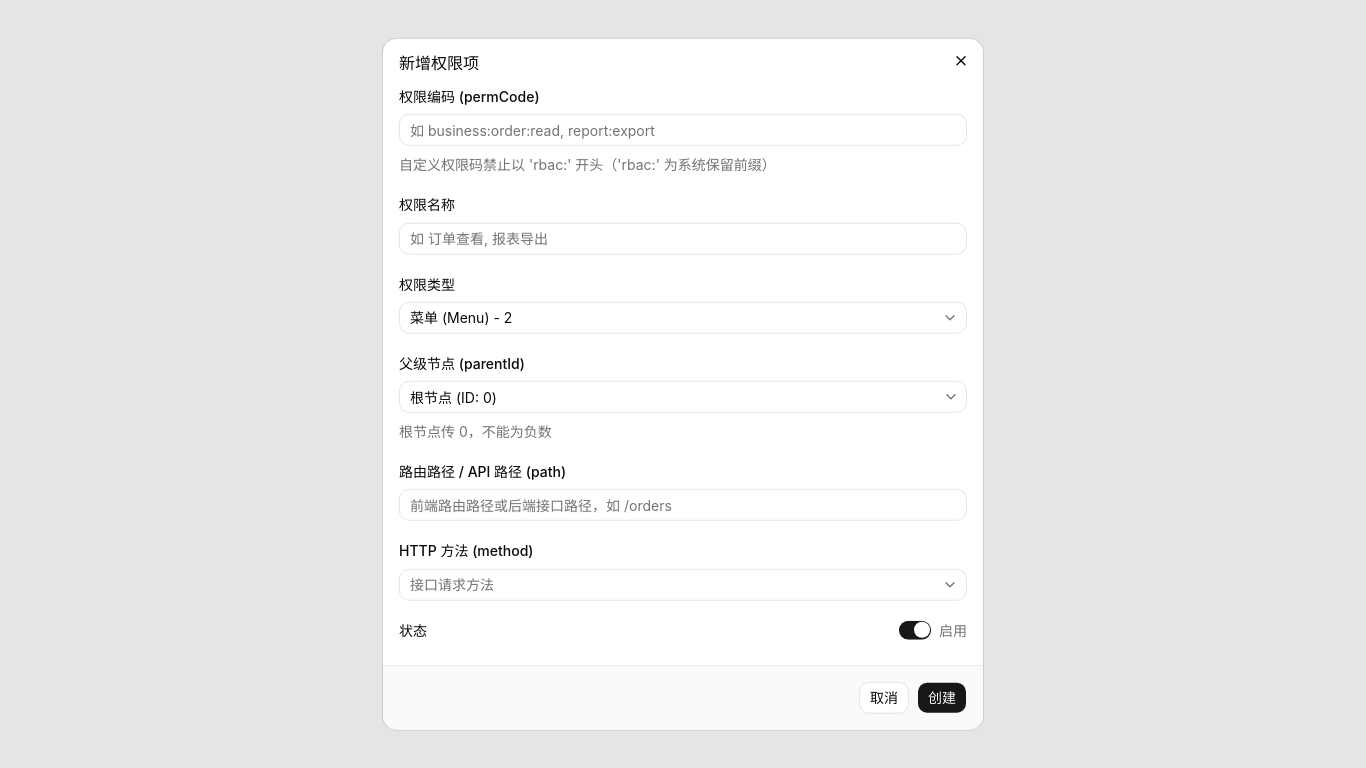
it: PermissionFormModal (RBAC 权限项 新增/编辑弹窗) › 提交失败路径 - 后端抛出通用异常时在 Alert 中展示错误信息且 loading 结束
In the field labelled "权限编码 (permCode)": {"x": 683, "y": 130} [399,114,967,146], type "valid:perm"
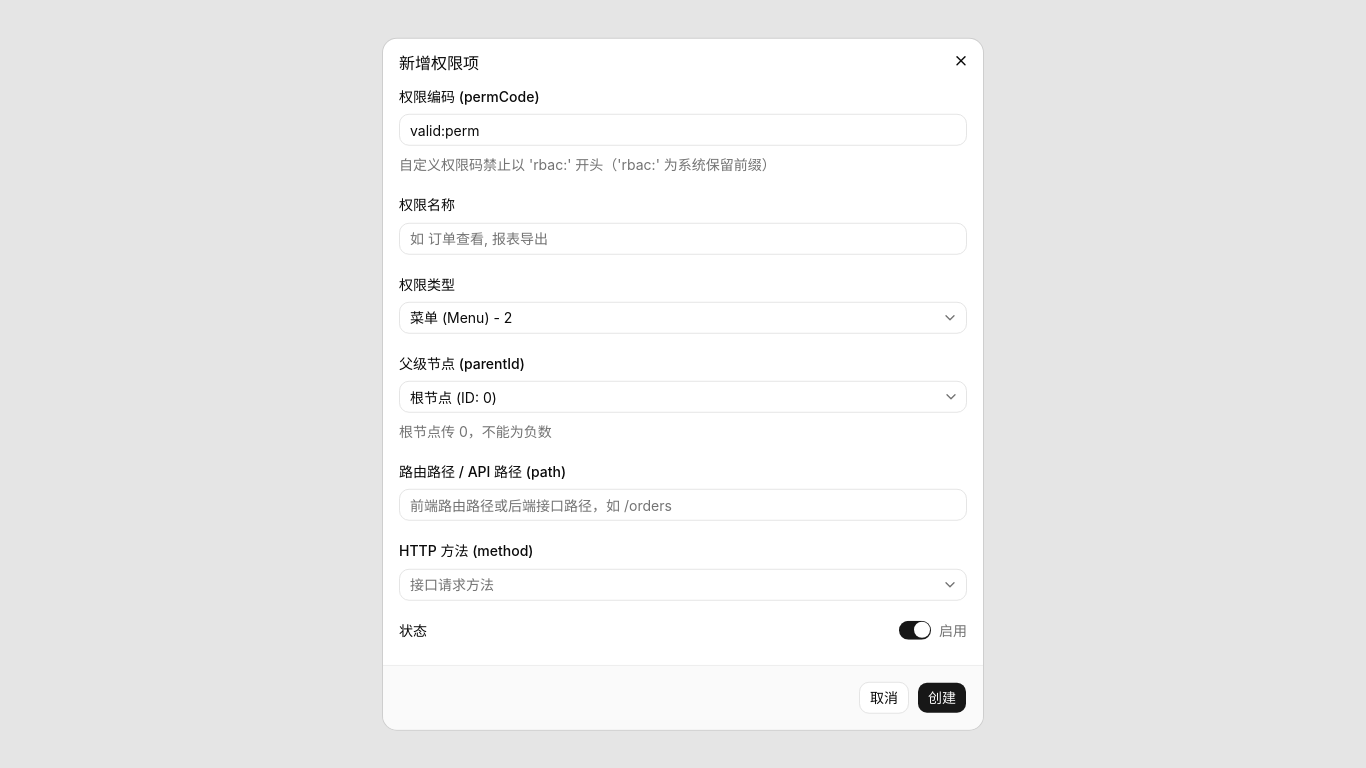
In the field labelled "权限名称": {"x": 683, "y": 238} [399,222,967,254], type "正常权限"
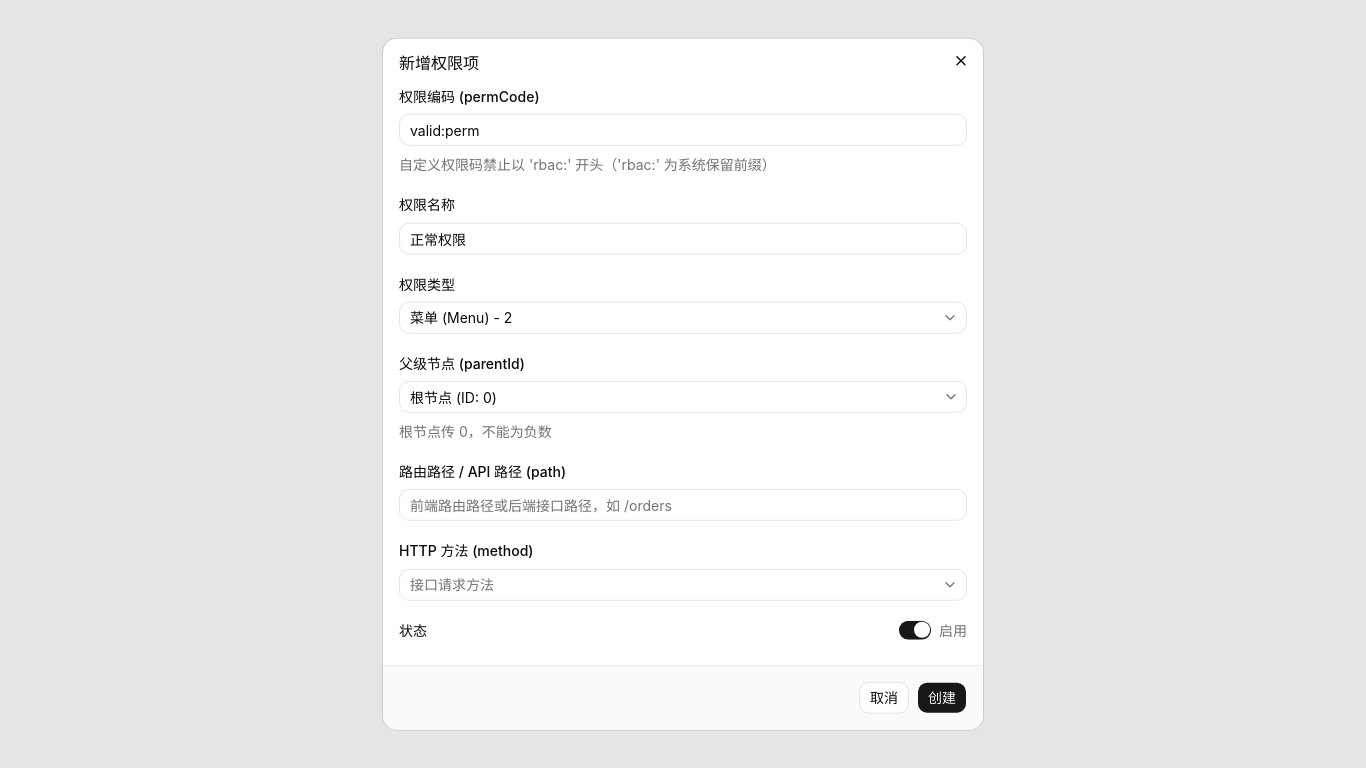
Click the button "创建": {"x": 942, "y": 697} [917,681,967,713]
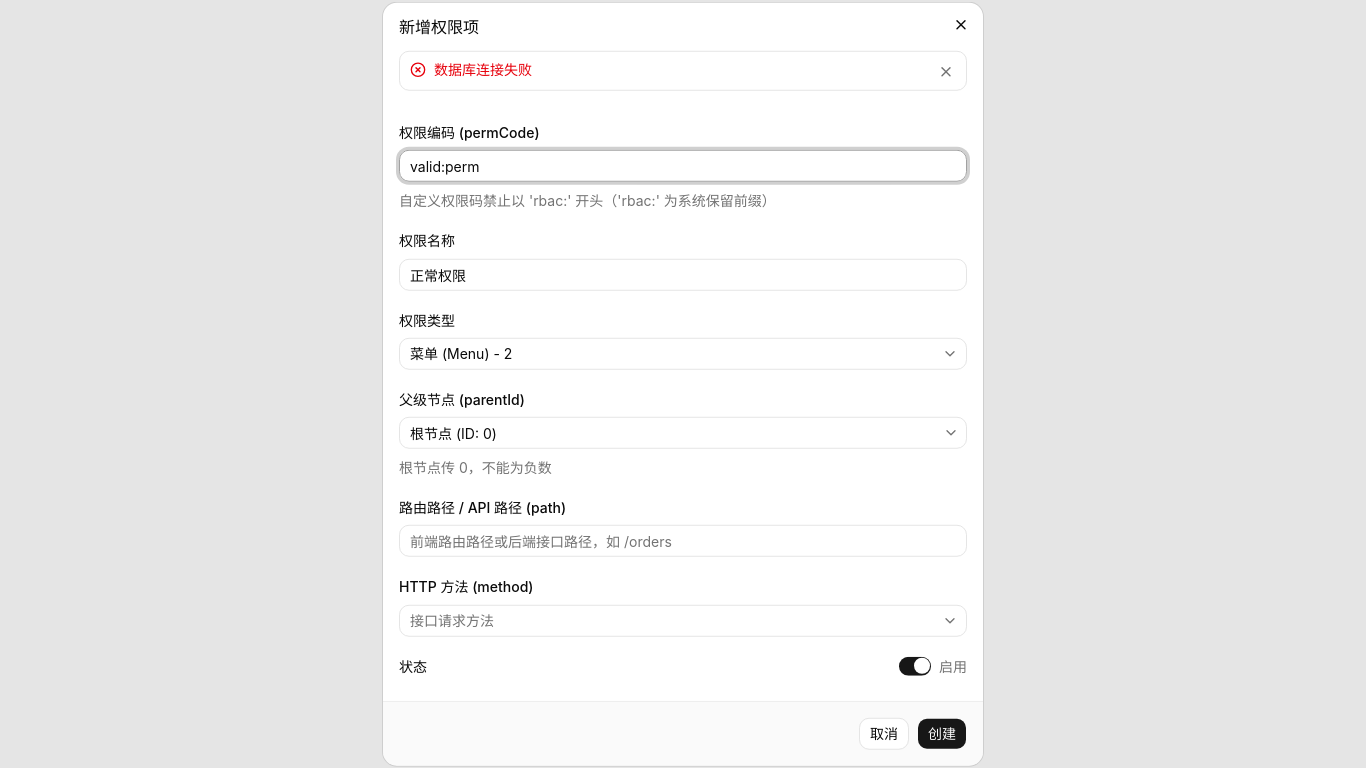
expect the button "创建" is enabled: met, box [917,717,967,749]
expect the text "数据库连接失败" is shown: met, box [434,61,532,78]
